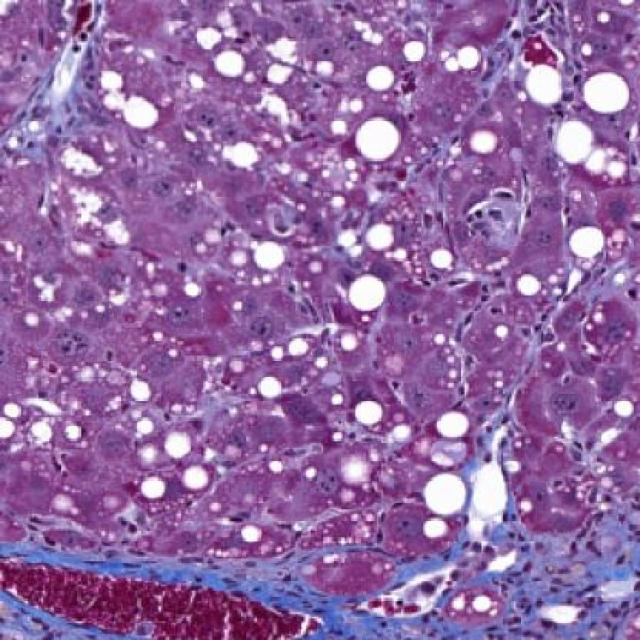fibrosis: (248, 514, 616, 640)
